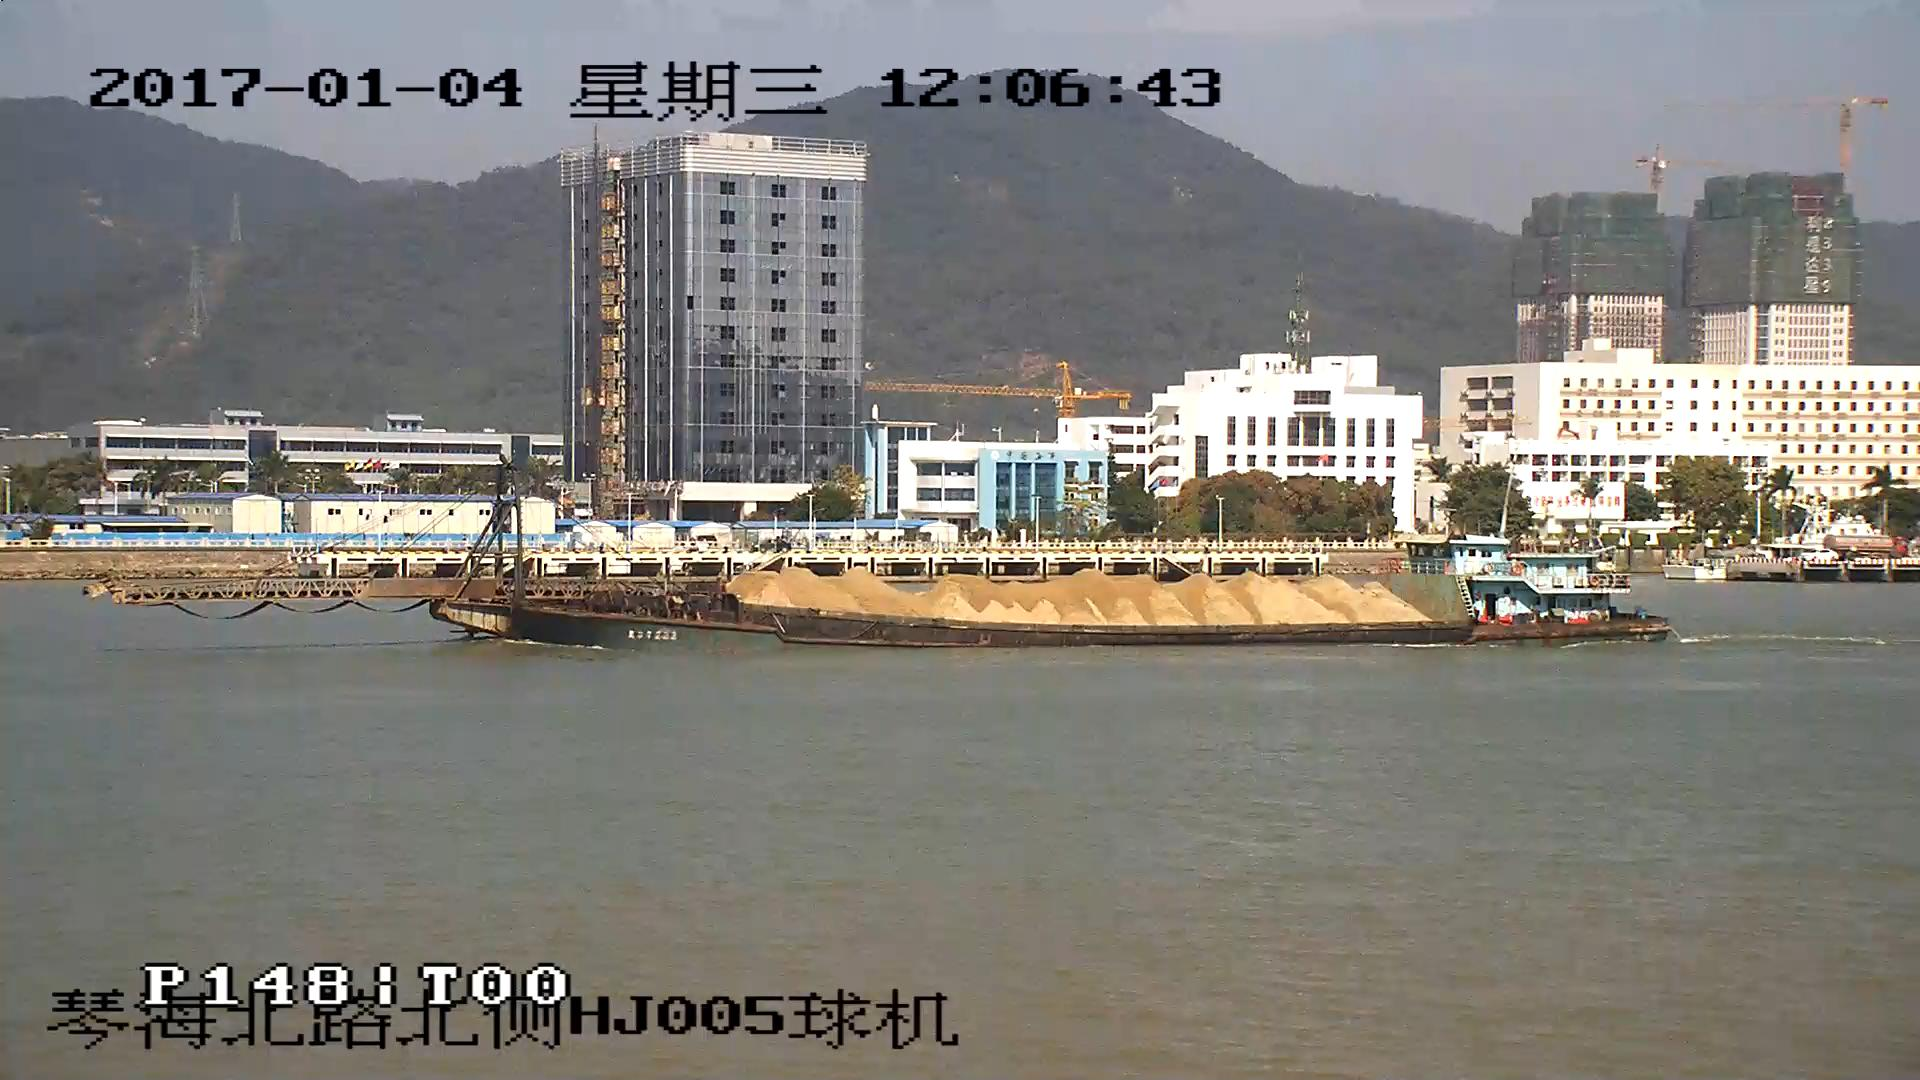ore carrier: (103, 465, 1677, 640)
